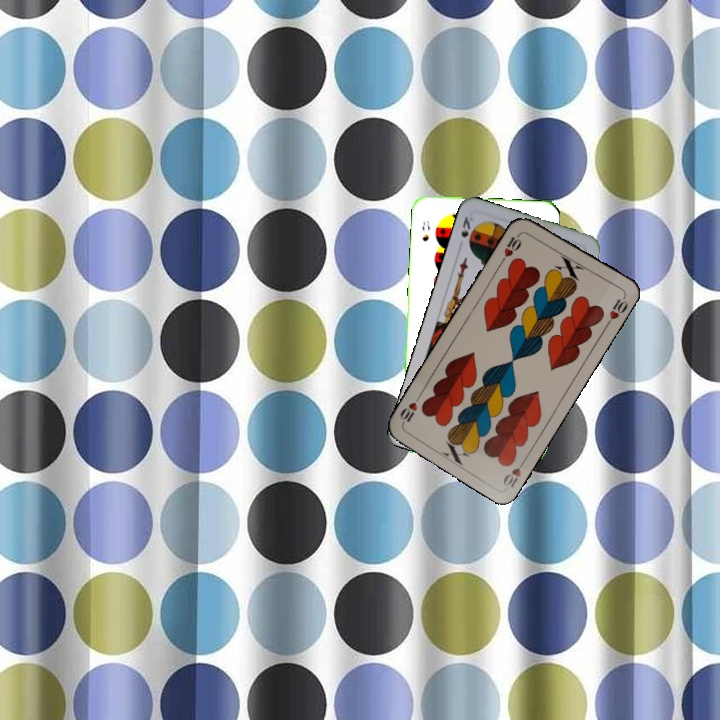H10: (499, 454, 529, 491), (497, 229, 524, 265)
S8: (418, 216, 432, 244)
SK: (455, 212, 476, 251)
